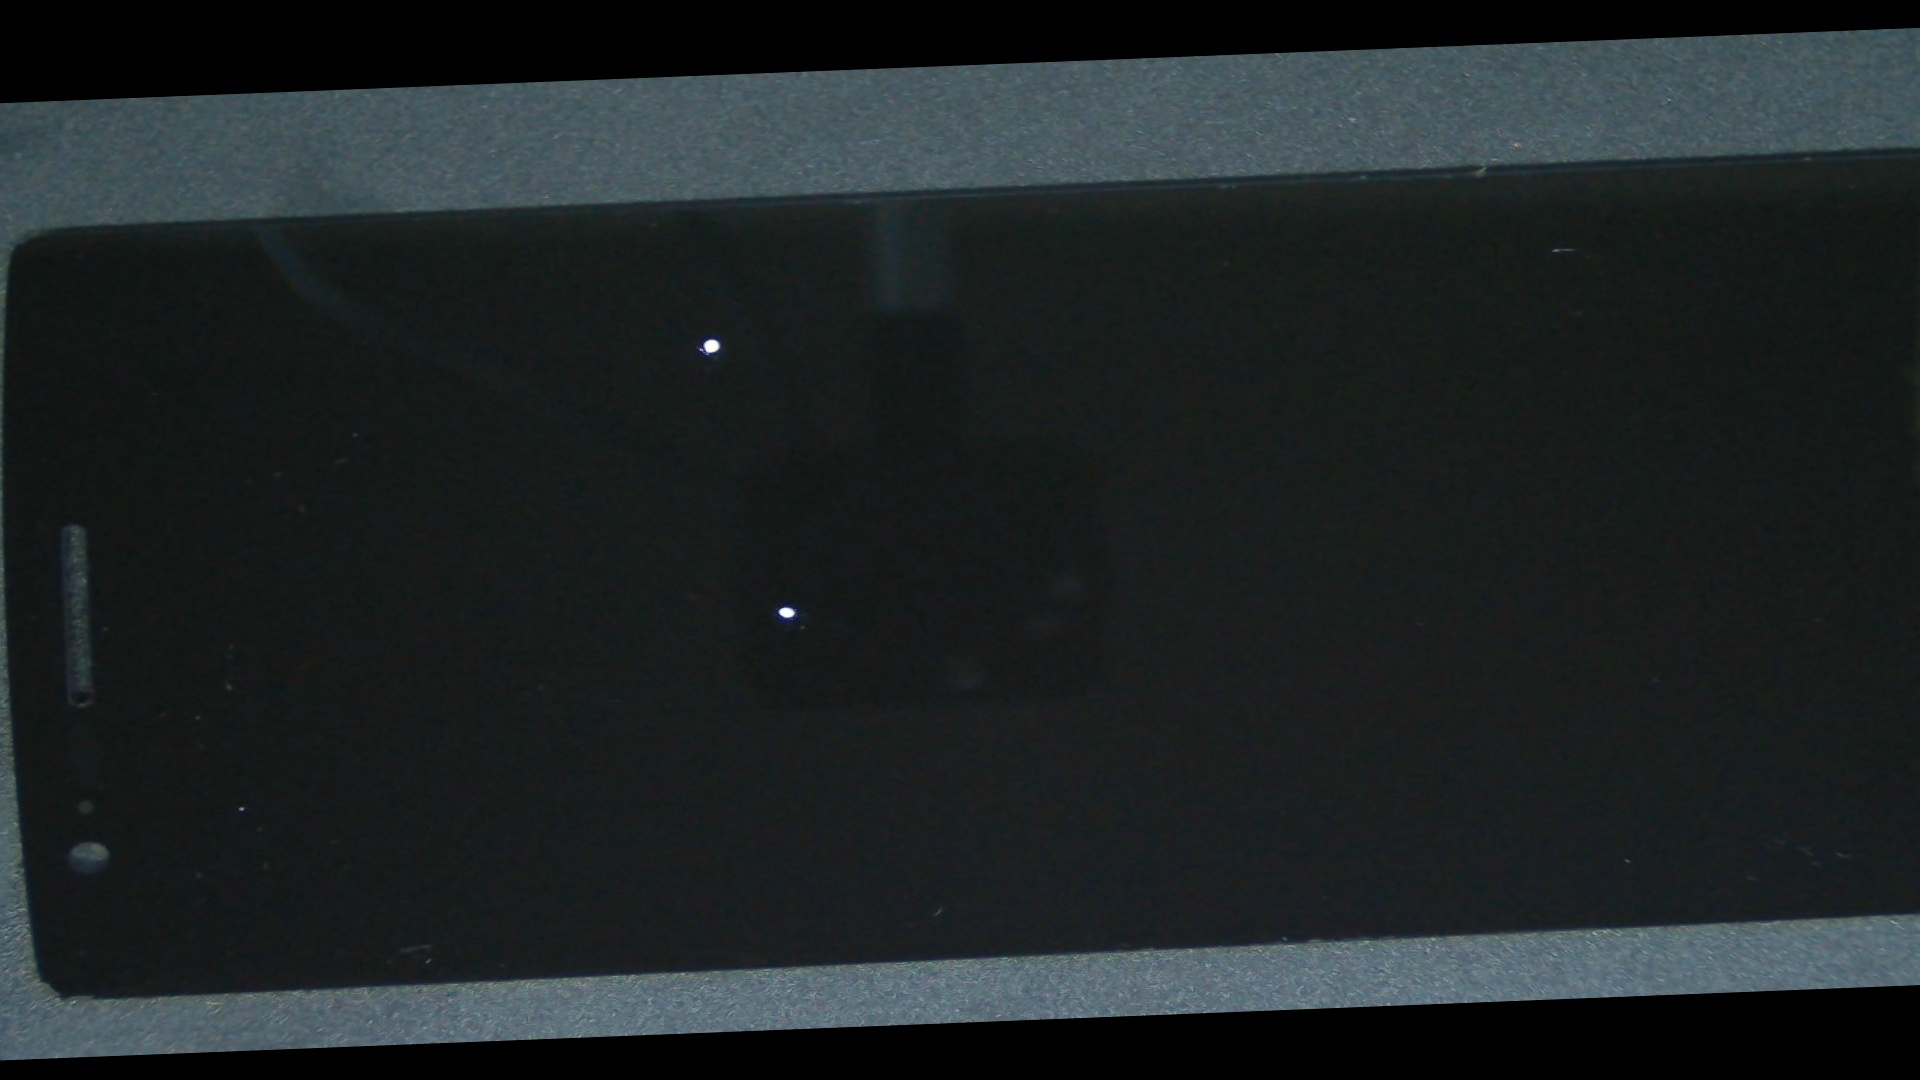oil: (327, 322, 1244, 889), (290, 187, 1122, 485)
